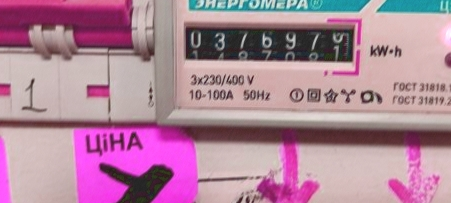0: (188, 28, 201, 48)
1: (330, 43, 341, 61)
3: (212, 30, 225, 50)
6: (259, 27, 272, 48)
7: (235, 28, 248, 49), (307, 29, 319, 51)
9: (283, 29, 295, 50)
screen: (175, 13, 365, 76)
